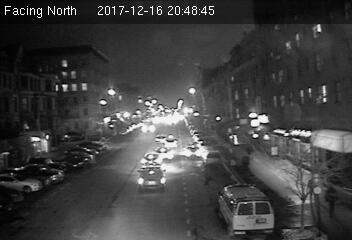car: (136, 164, 168, 192), (203, 151, 225, 168), (140, 152, 163, 167), (183, 145, 201, 160)
police: (215, 181, 276, 234)
